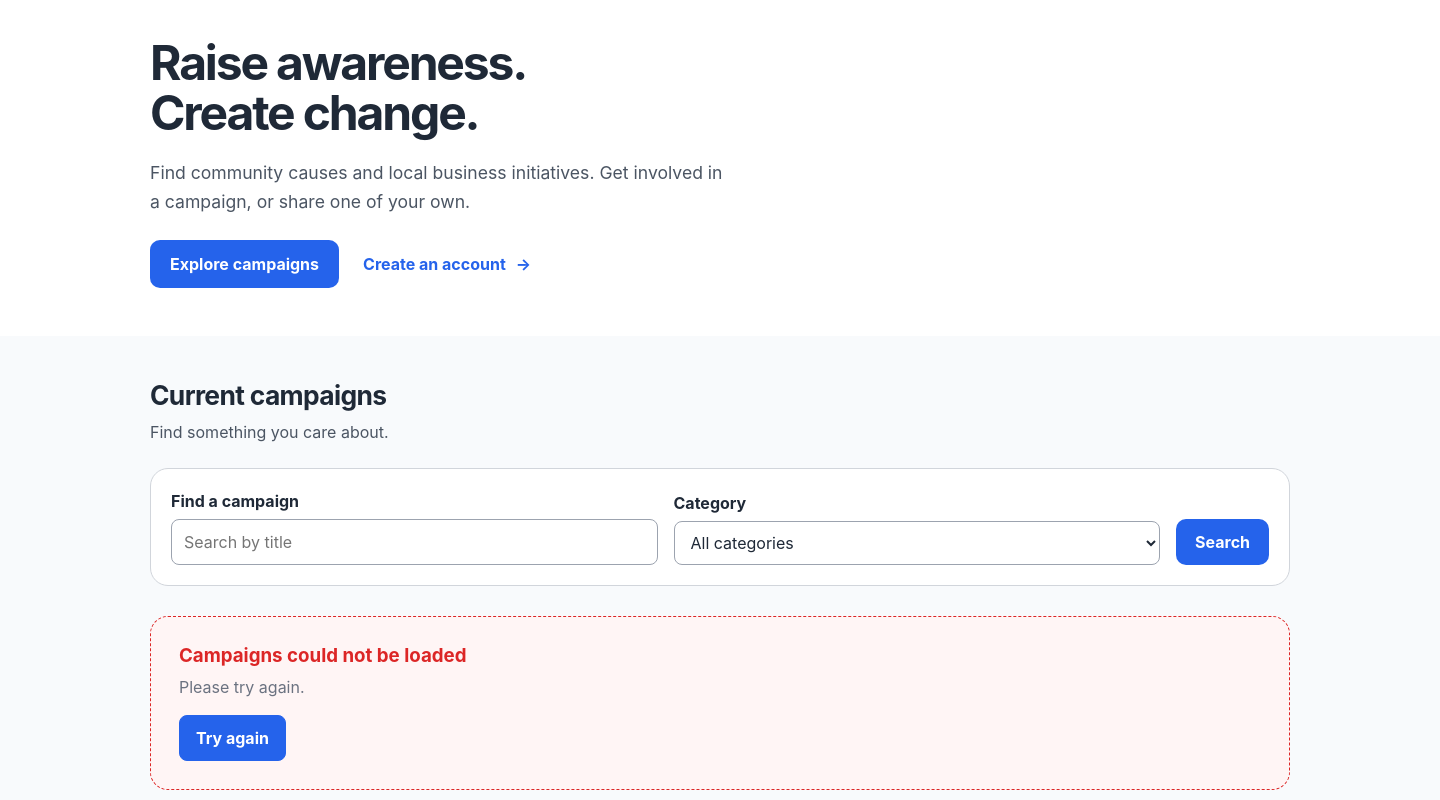
CauseConnect campaign homepage › shows an error state and retries the request
Expected: the message "Campaigns could not be loaded Please try again. Try again" is shown, [150,616,1290,790]
Click the button "Try again": (232, 738) [179,715,286,761]
(page scrolled)
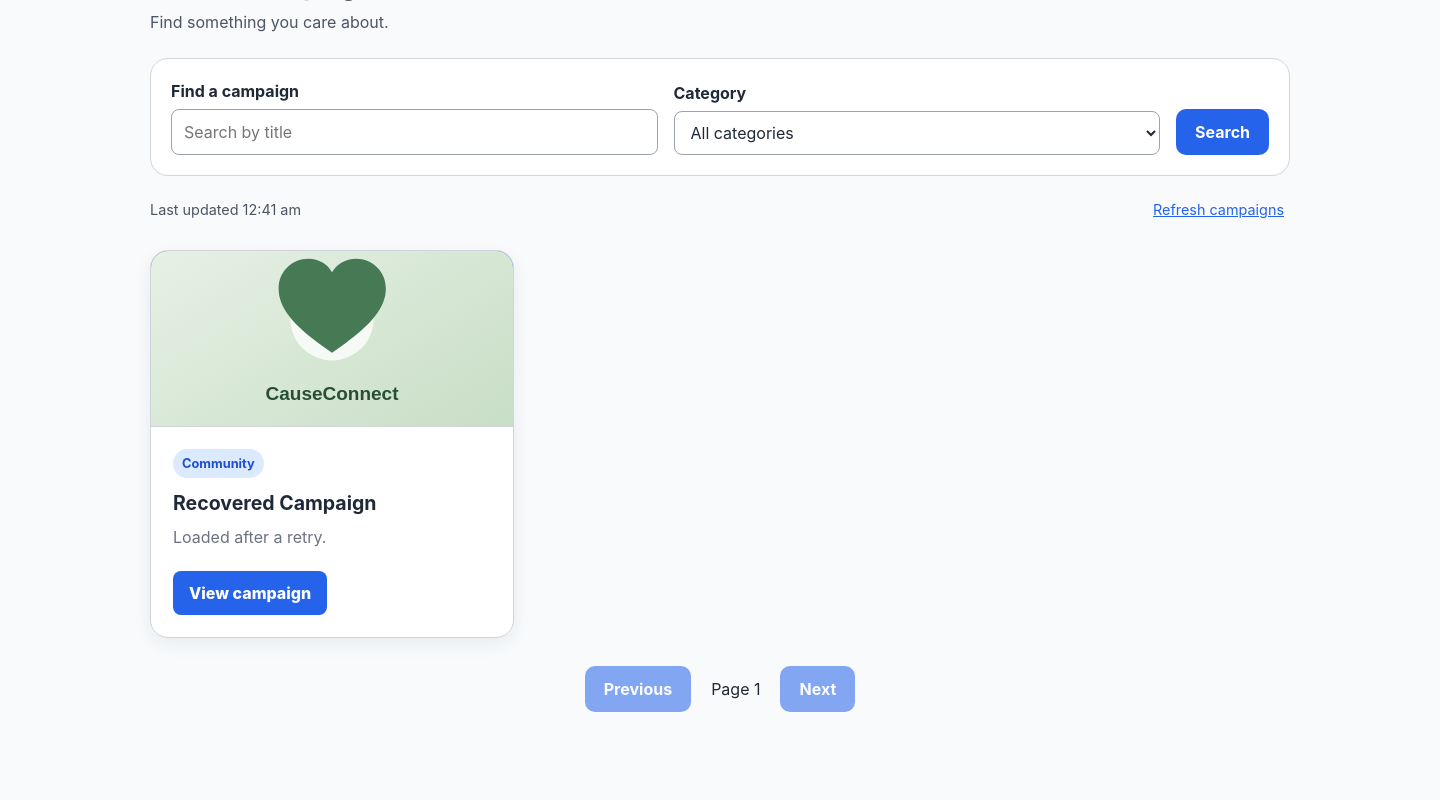
Result: the heading "Recovered Campaign" is shown at [173,492,376,515]
